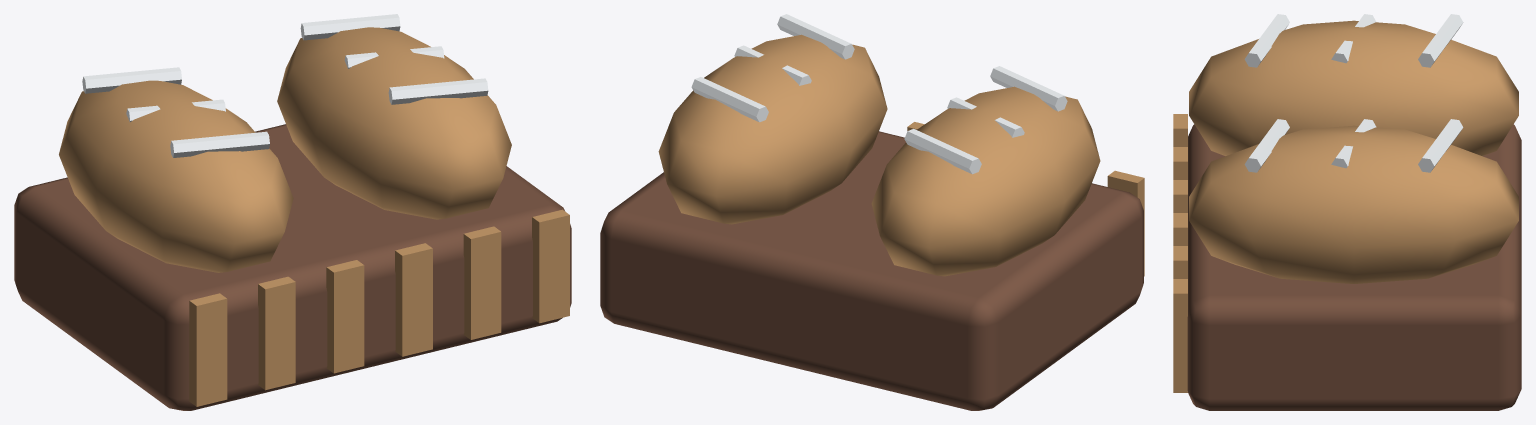
File: alpine-snow-village-fresh-bread-basket-173a5116__19840.glb
3 views of the same model, side by side, from view 1: azimuth 30°, elevation 25°; view 2: azimuth 150°, elevation 25°; view 3: azimuth 270°, elevation 25° (orthographic). The views are drawn at different scales.
Visible parts, largest first — view 1: fresh-bread-basket-oak, fresh-bread-basket-wood, fresh-bread-basket-snow; view 2: fresh-bread-basket-wood, fresh-bread-basket-oak, fresh-bread-basket-snow; view 3: fresh-bread-basket-oak, fresh-bread-basket-wood, fresh-bread-basket-snow.
Boxes of the visible parts, <box> form: fresh-bread-basket-oak: <box>59,27,569,406</box>; fresh-bread-basket-wood: <box>14,124,571,410</box>; fresh-bread-basket-snow: <box>82,14,488,157</box>; fresh-bread-basket-wood: <box>600,131,1143,410</box>; fresh-bread-basket-oak: <box>658,34,1144,276</box>; fresh-bread-basket-snow: <box>691,14,1067,174</box>; fresh-bread-basket-oak: <box>1173,20,1518,392</box>; fresh-bread-basket-wood: <box>1187,124,1521,410</box>; fresh-bread-basket-snow: <box>1244,14,1463,172</box>.
Bounding box in the file's own units: 0.8 × 0.45 × 0.6025.
